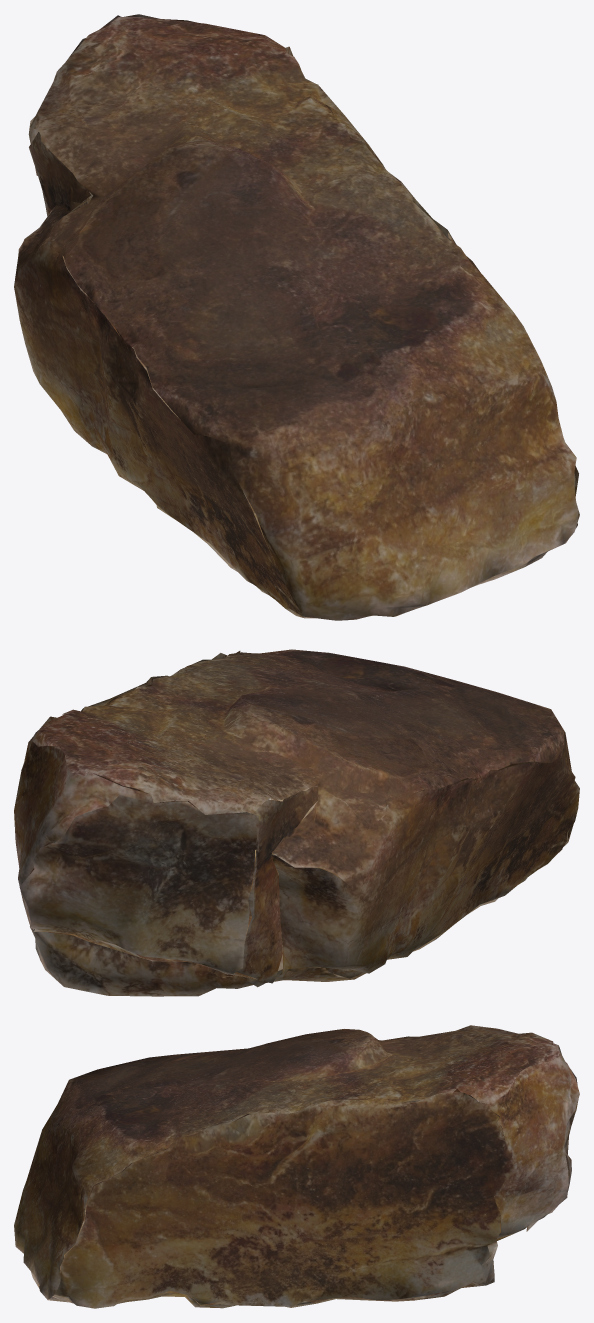
Rendered from pr_rock_07.fbx.
3 views of the same model, one above another, from view 1: azimuth 30°, elevation 25°; view 2: azimuth 150°, elevation 25°; view 3: azimuth 270°, elevation 25° (orthographic). The views are drawn at different scales.
Visible parts, largest first — view 1: pr_rock_07_LOD0; view 2: pr_rock_07_LOD0; view 3: pr_rock_07_LOD0.
Boxes of the visible parts, x1,y1,x2,y2 form: pr_rock_07_LOD0: (14,14,579,620); pr_rock_07_LOD0: (14,649,579,996); pr_rock_07_LOD0: (14,1025,579,1308).
Size of what is drawn, in the model's own units: 0.17 by 0.1429 by 0.3208.
1 material, 1 textured.
